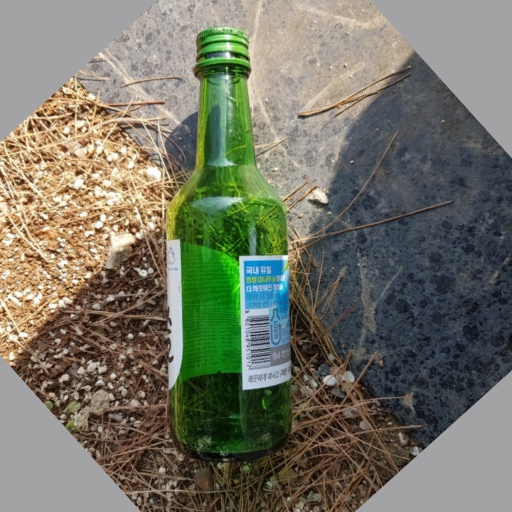Glass_0: (159, 23, 292, 462)
